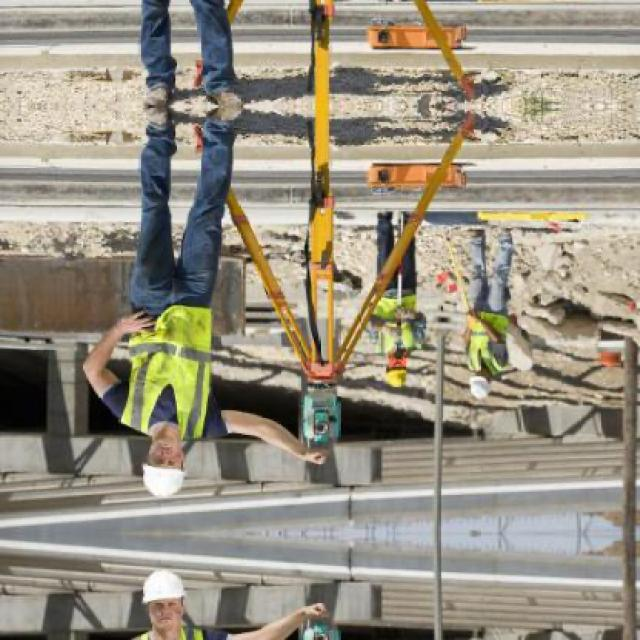con casco: (137, 420, 199, 495), (460, 339, 505, 402), (380, 346, 420, 400)
